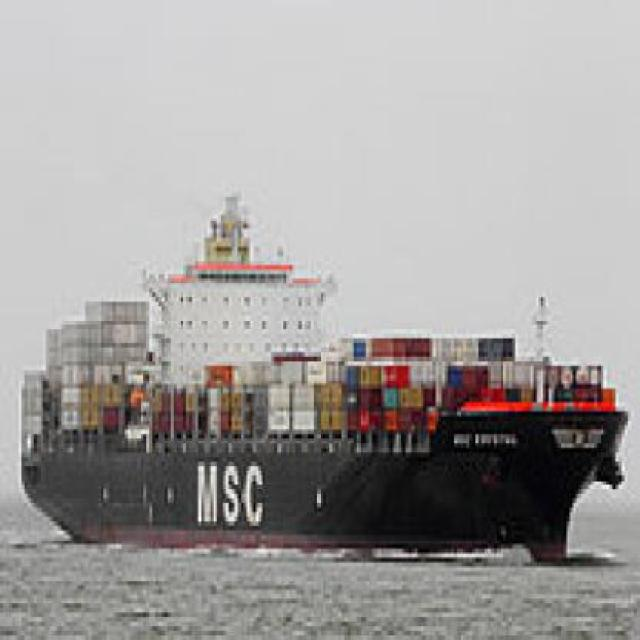container: (16, 179, 632, 573)
